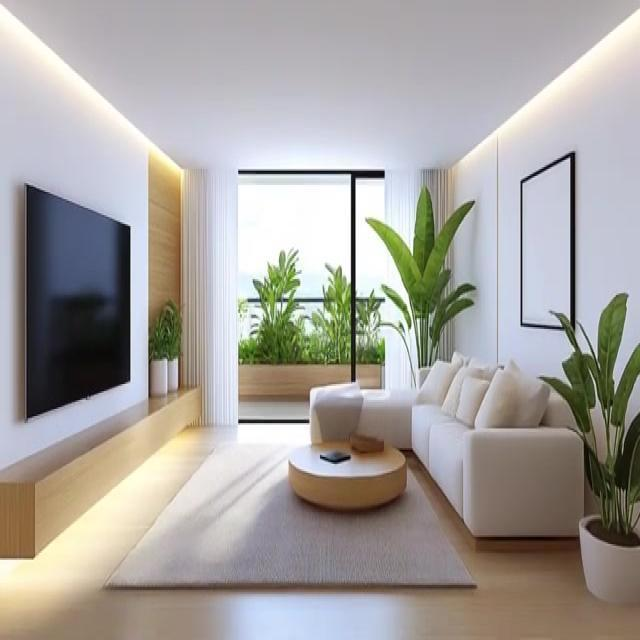obstacle: (309, 351, 608, 538), (287, 438, 406, 510)
